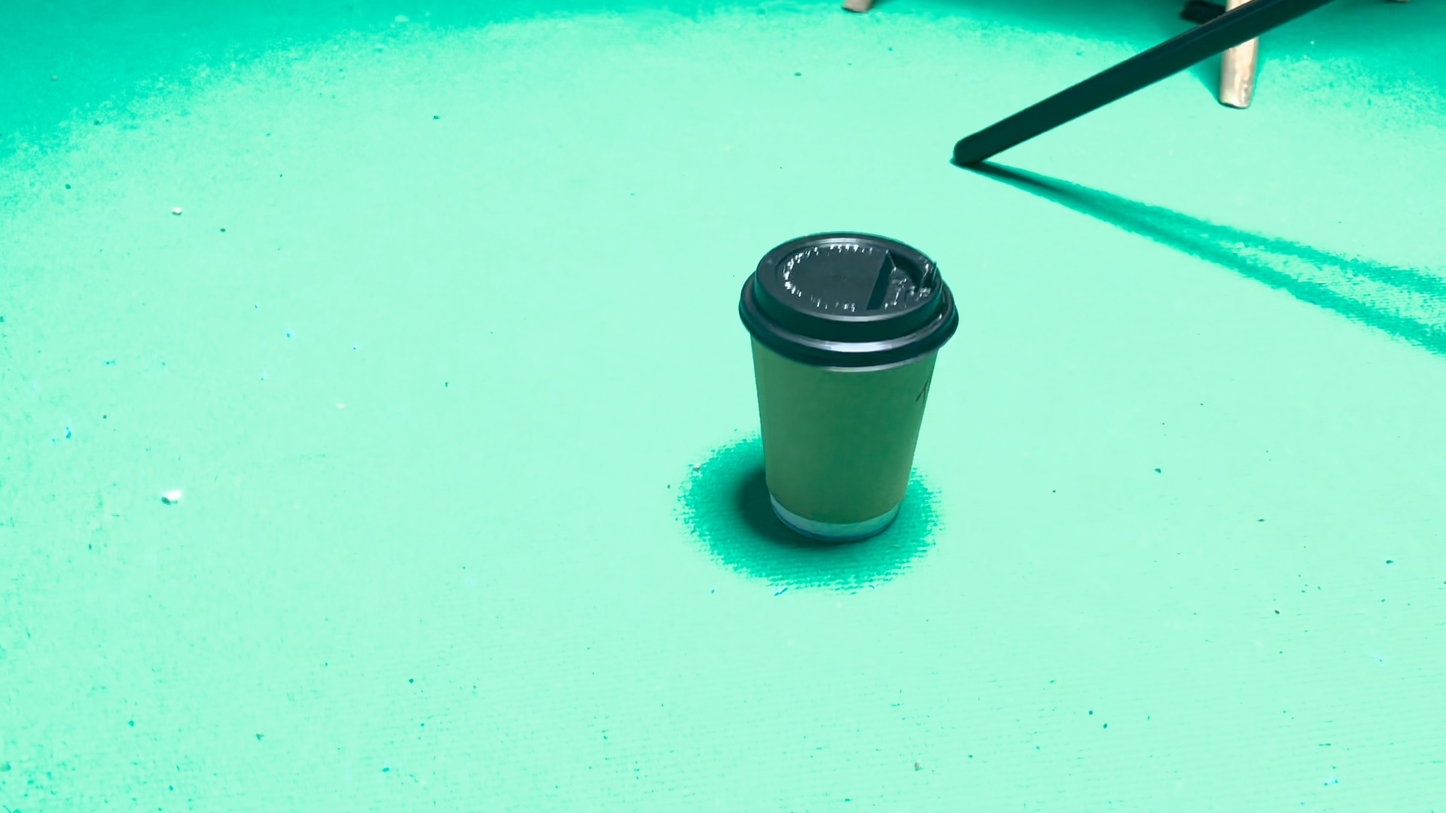cup: (737, 458, 832, 582)
